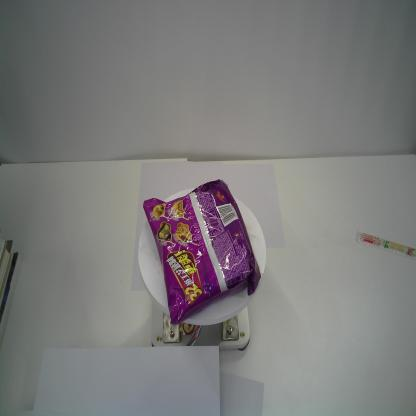Instant Noodles: (142, 179, 261, 327)
